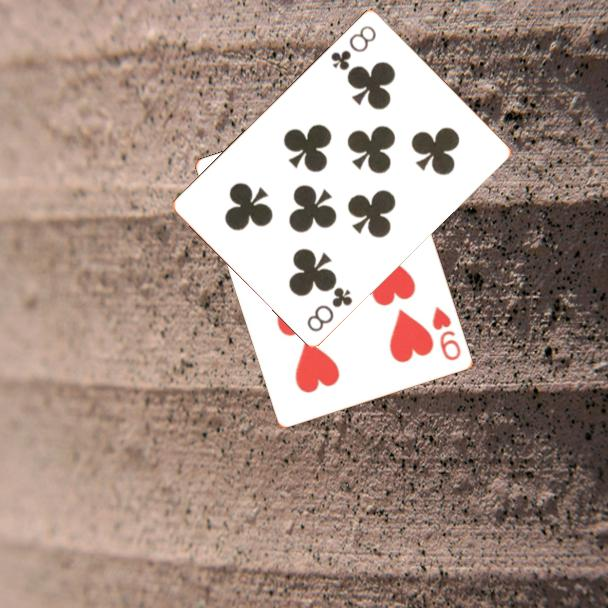c08: (327, 21, 379, 73), (303, 283, 356, 334)
h09: (429, 303, 464, 364)
